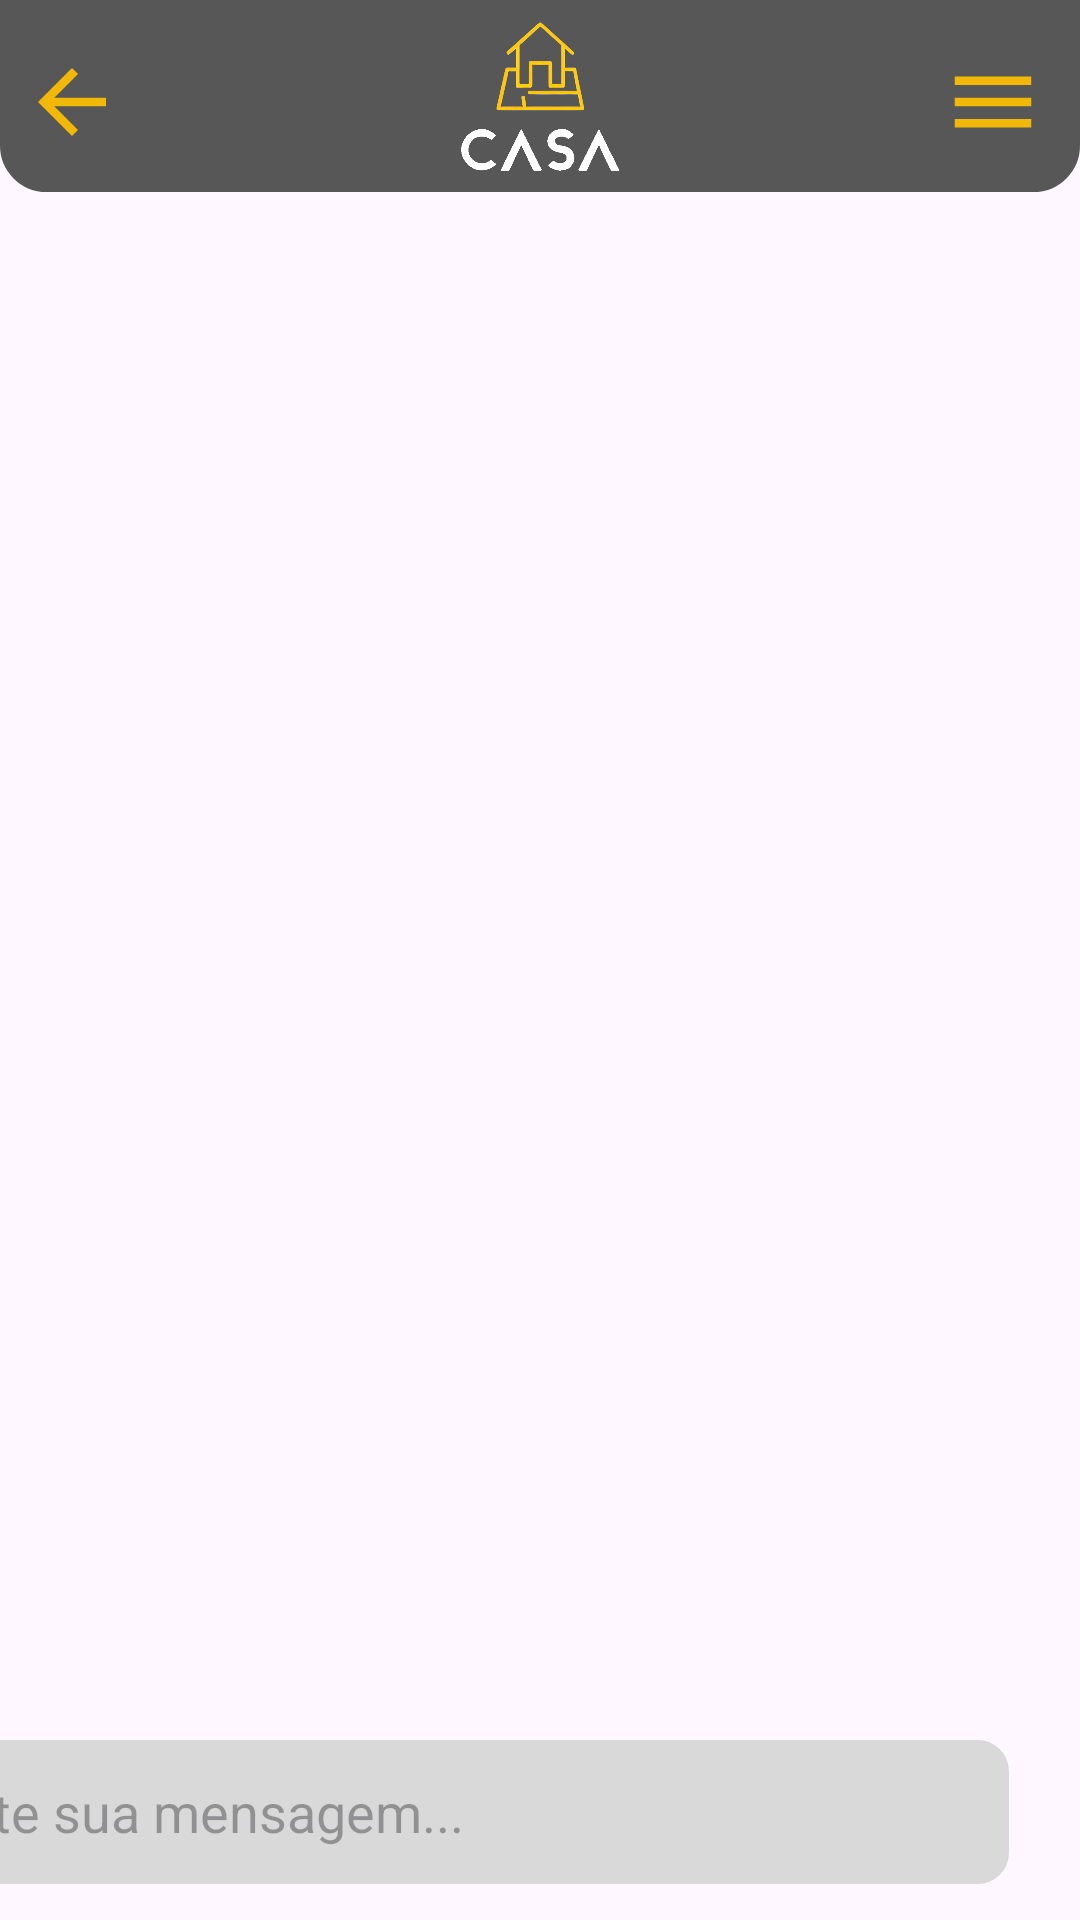

Screen size 1080px x 1920px. Icon name, then its box in pixels as (x1, y1, x2, y2):
arrow back: (38, 68, 106, 136)
menu: (954, 76, 1032, 128)
